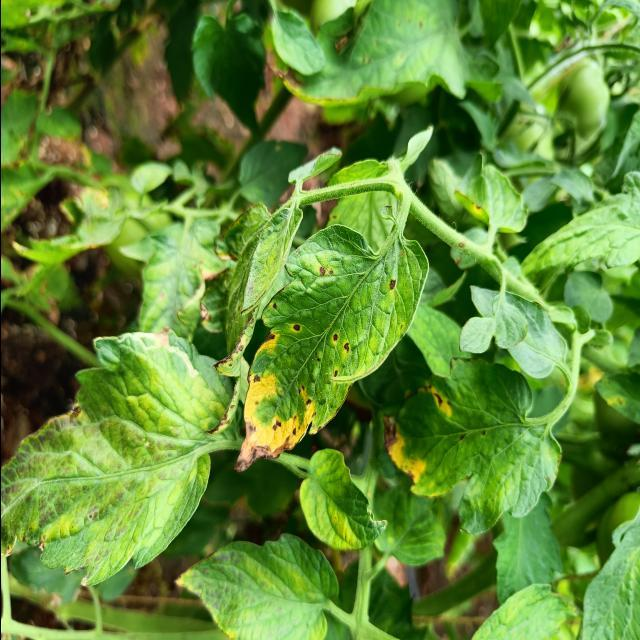Tomato mosaic virus leaf: (234, 222, 431, 476)
